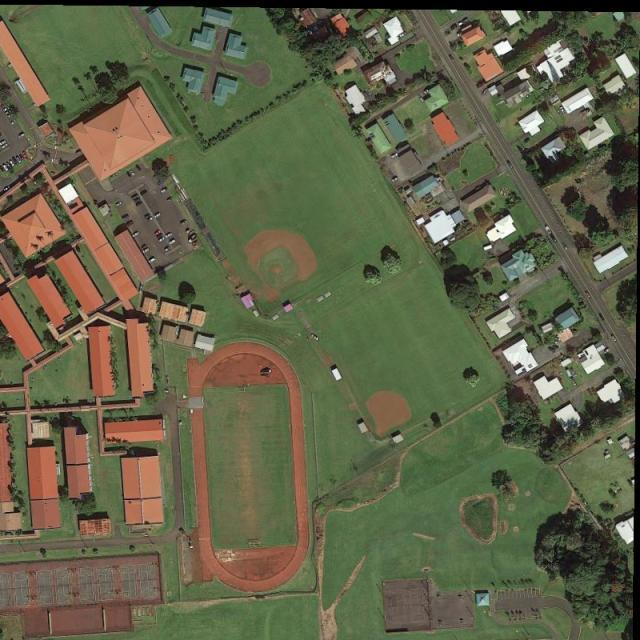vehicle: (188, 234, 198, 244), (458, 19, 470, 27), (569, 368, 578, 378), (310, 334, 321, 342), (160, 186, 170, 194), (450, 24, 459, 32), (550, 234, 558, 243), (2, 165, 10, 173), (6, 162, 14, 170), (131, 194, 139, 202), (610, 335, 618, 343), (548, 346, 556, 354), (156, 233, 165, 240), (126, 220, 135, 227), (418, 94, 425, 103), (546, 226, 553, 235), (19, 154, 26, 162), (10, 119, 17, 127), (158, 237, 166, 244), (164, 246, 172, 253), (599, 314, 606, 322), (585, 291, 592, 299), (391, 153, 399, 160), (391, 177, 399, 184), (571, 378, 578, 386), (587, 389, 594, 397), (591, 389, 598, 397), (562, 243, 569, 251), (507, 161, 514, 169), (141, 190, 150, 196), (165, 233, 174, 239), (148, 258, 157, 264), (156, 181, 166, 186), (5, 109, 12, 116), (3, 106, 10, 113), (122, 214, 129, 221), (12, 157, 18, 165), (16, 156, 22, 164), (186, 229, 194, 235), (180, 220, 188, 226), (154, 230, 162, 236), (169, 240, 177, 246), (142, 248, 150, 254), (140, 245, 148, 251), (132, 232, 140, 238), (1, 144, 9, 150), (449, 54, 455, 62), (9, 160, 15, 167), (22, 152, 28, 159), (136, 165, 142, 172), (115, 202, 122, 208), (126, 171, 132, 178), (130, 170, 136, 177), (1, 140, 8, 146), (604, 348, 610, 355), (1, 166, 6, 174), (4, 186, 12, 191), (18, 134, 26, 139), (154, 213, 162, 218), (134, 198, 142, 203), (399, 33, 407, 38), (136, 201, 142, 207), (167, 197, 174, 202), (147, 217, 154, 222), (424, 89, 430, 94), (554, 338, 558, 345), (146, 214, 152, 218), (572, 330, 578, 334), (553, 346, 559, 350), (1, 134, 3, 138)
